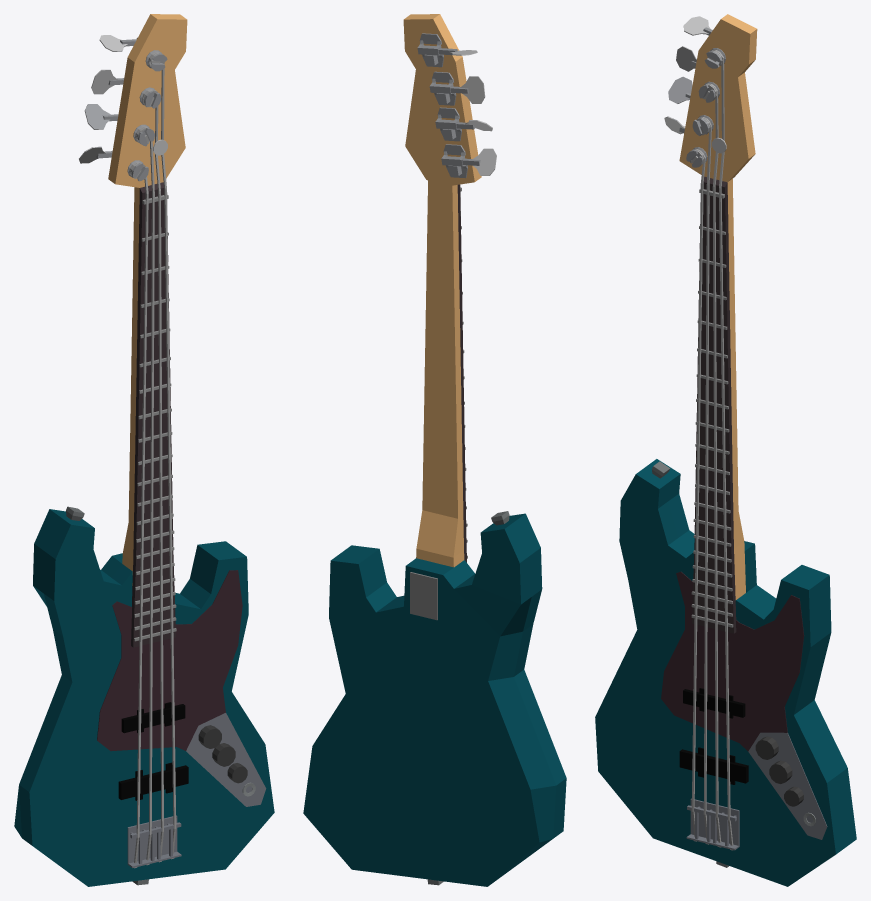
The model's file is bass-rotated.glb.
3 renders of one model, left to right at view 1: azimuth 30°, elevation 25°; view 2: azimuth 150°, elevation 25°; view 3: azimuth 330°, elevation 25°, orthographic.
Parts seen in each view (by area): view 1: Body_0, Neck&Head_1, PickGuard_3, String1_19, String2_18, String3_21, String4_20, PickUps_2, Frets_11, Bridge_10, MH3_14, MH2_15 (+2 smaller); view 2: Body_0, Neck&Head_1, MH4_13, cube_12, MH2_15, MH3_14, MH1_16; view 3: Body_0, Neck&Head_1, PickGuard_3, String1_19, String2_18, String3_21, String4_20, Frets_11, PickUps_2, Bridge_10, MH3_14, MH1_16 (+1 smaller).
Part boxes in pixels (x1,y1,x2,y2): Body_0: [14, 509, 274, 886]; Neck&Head_1: [108, 14, 187, 647]; PickGuard_3: [97, 570, 266, 806]; String1_19: [148, 52, 176, 859]; String2_18: [142, 89, 163, 862]; String3_21: [135, 126, 154, 865]; String4_20: [129, 162, 148, 868]; PickUps_2: [118, 702, 188, 800]; Frets_11: [134, 195, 176, 641]; Bridge_10: [127, 815, 181, 867]; MH3_14: [84, 104, 154, 146]; MH2_15: [91, 69, 161, 108]; Body_0: [303, 513, 566, 886]; Neck&Head_1: [403, 14, 481, 567]; MH4_13: [424, 54, 496, 178]; cube_12: [410, 572, 437, 620]; MH2_15: [429, 71, 485, 105]; MH3_14: [435, 107, 492, 141]; MH1_16: [417, 33, 477, 67]; Body_0: [595, 459, 856, 886]; Neck&Head_1: [679, 14, 757, 633]; PickGuard_3: [661, 571, 827, 839]; String1_19: [707, 50, 733, 850]; String2_18: [703, 83, 721, 847]; String3_21: [696, 117, 711, 844]; String4_20: [690, 149, 705, 841]; Frets_11: [691, 189, 733, 627]; PickUps_2: [679, 688, 748, 784]; Bridge_10: [686, 798, 739, 850]; MH3_14: [668, 76, 713, 135]; MH1_16: [683, 16, 725, 68].
Size of the model in its own units: 0.5 by 1.7 by 0.0969.
1 material, 1 textured.
